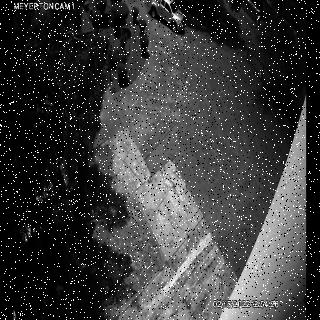car: (18, 168, 72, 245), (145, 0, 184, 33)
